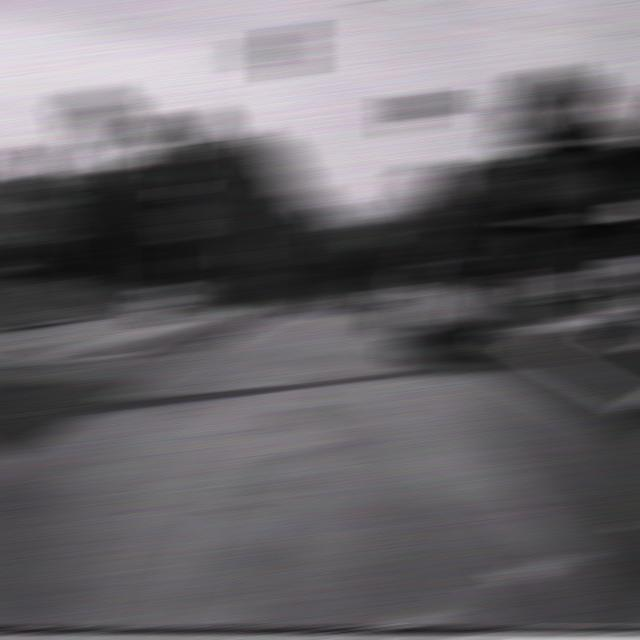noLeftTurn: (162, 206, 203, 239)
